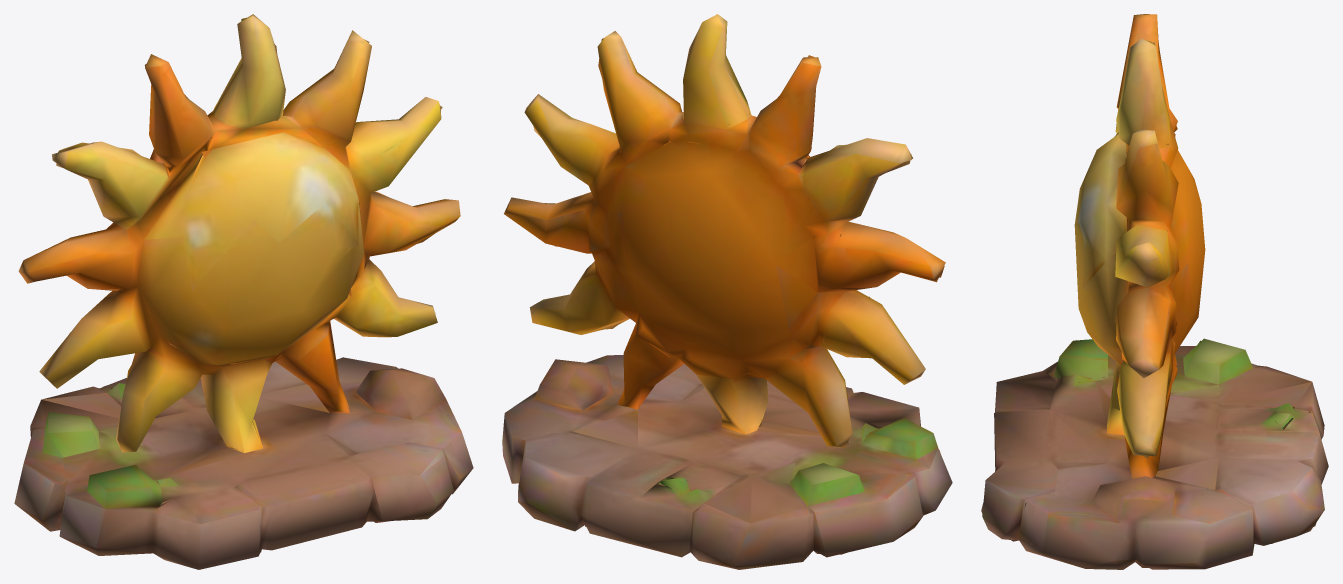
Rendered from lg-broken-sun-statue.glb.
3 renders of one model, left to right at view 1: azimuth 30°, elevation 25°; view 2: azimuth 150°, elevation 25°; view 3: azimuth 270°, elevation 25°, orthographic. The views are drawn at different scales.
Parts seen in each view (by area): view 1: geometry_0; view 2: geometry_0; view 3: geometry_0.
Part boxes in pixels (<box>): geometry_0: <box>14,14,473,569</box>; geometry_0: <box>502,14,952,569</box>; geometry_0: <box>981,14,1328,569</box>.
Bounding box in the file's own units: 0.9694 × 1 × 0.703.
1 material, 1 textured.
